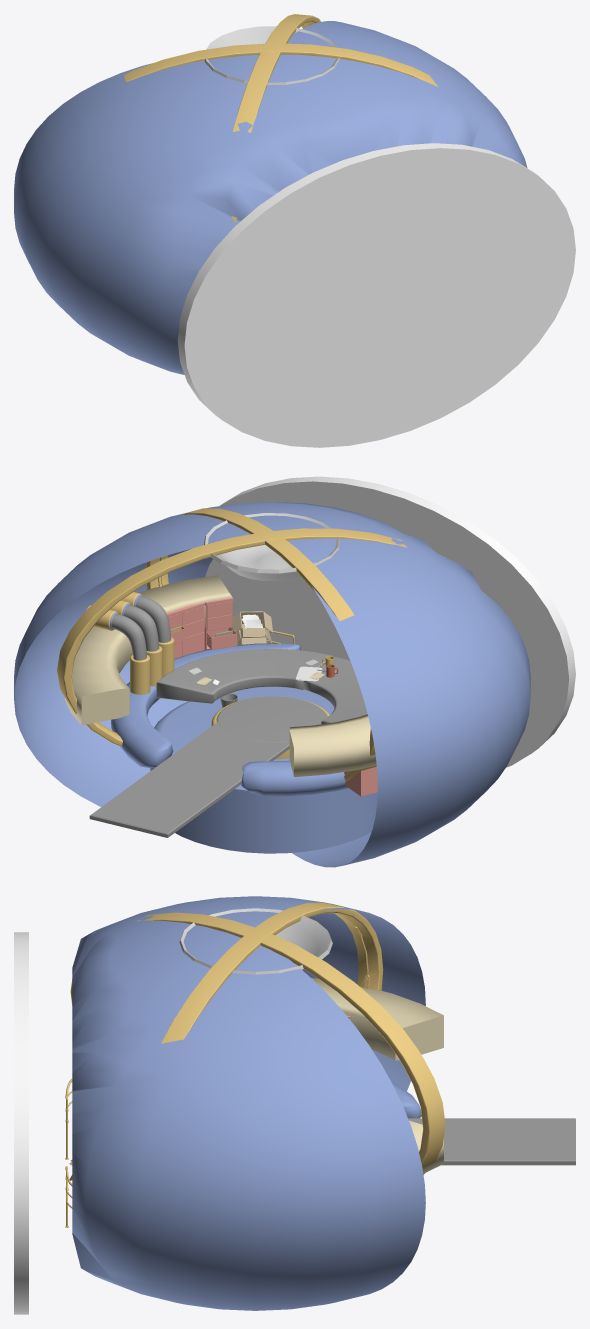
3 views of the same model, one above another, from view 1: azimuth 30°, elevation 25°; view 2: azimuth 150°, elevation 25°; view 3: azimuth 270°, elevation 25° (orthographic). The views are drawn at different scales.
Parts seen in each view (by area): view 1: polySurface511; view 2: polySurface511; view 3: polySurface511.
Boxes of the visible parts, box(x1,y1,x2,y2) form: polySurface511: box(14, 14, 575, 447); polySurface511: box(14, 476, 575, 867); polySurface511: box(14, 896, 575, 1314).
Bounding box in the file's own units: 118 × 78.4 × 114.
